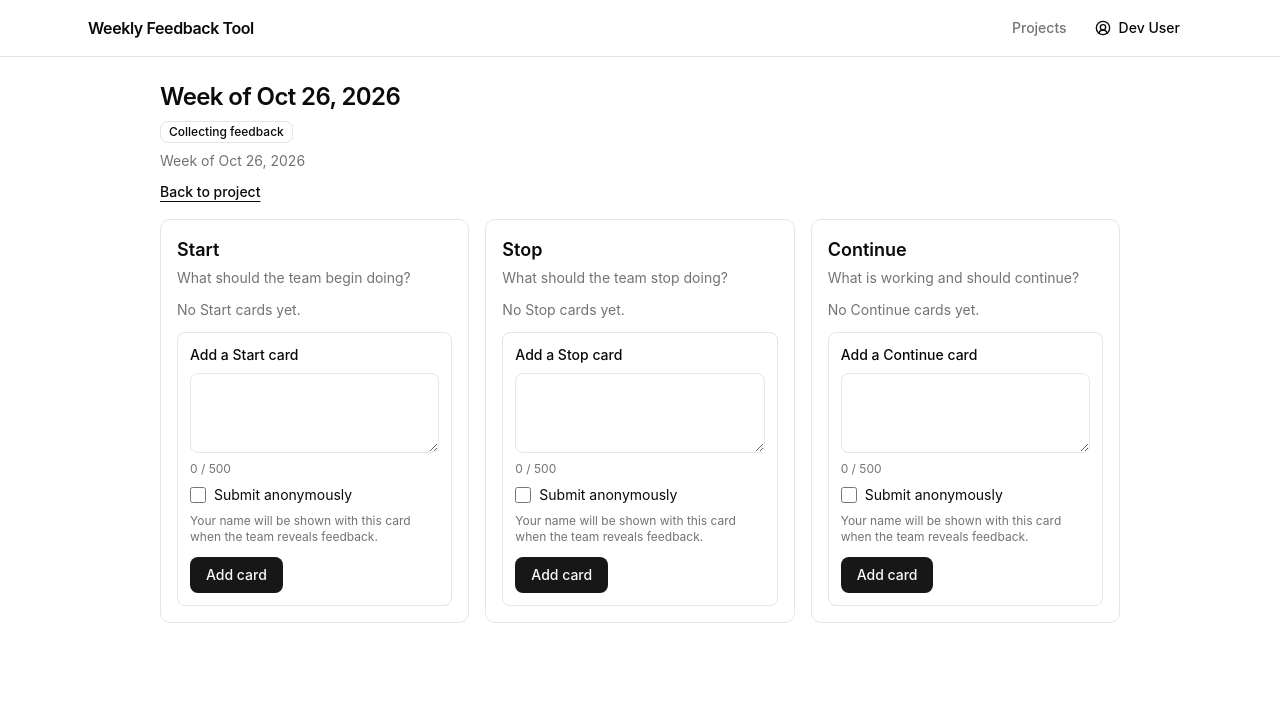
Test: FeedbackPage composer › rejects  with an inline error and no request
Click the button "Add card" below "Add a Start card": (236, 575) [190, 557, 283, 593]
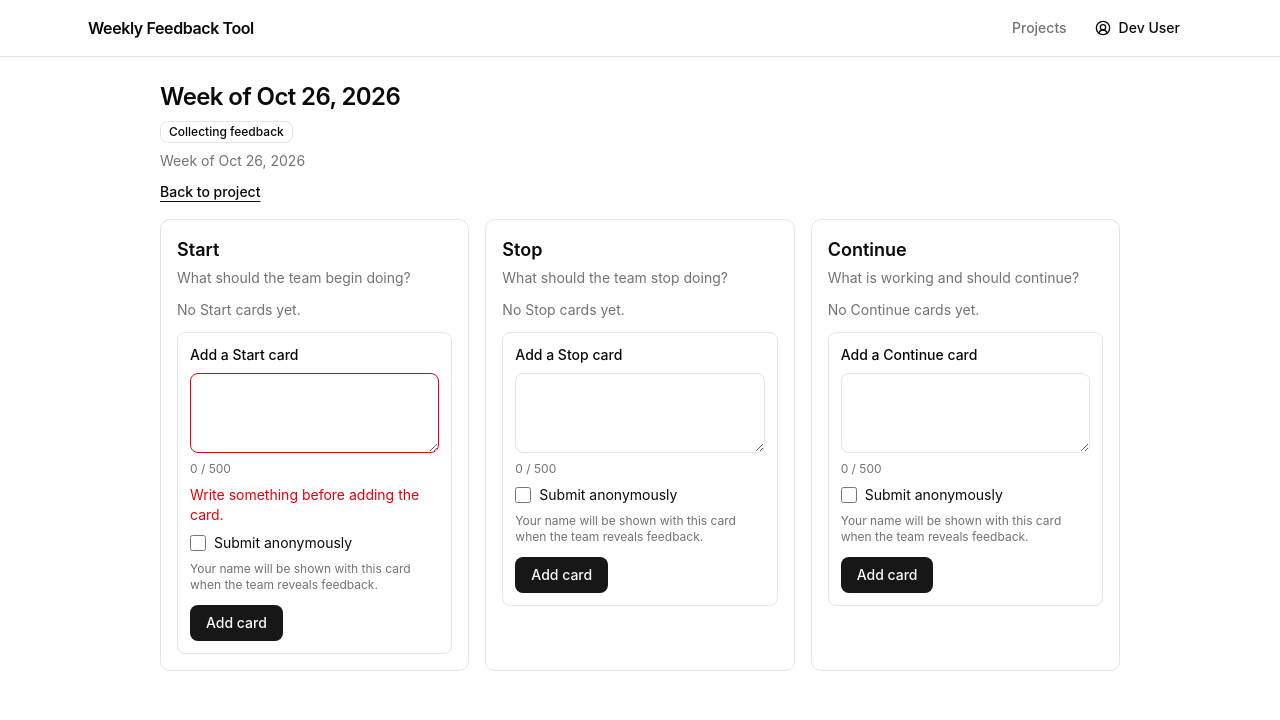
Check: the message reads "Write something before adding the card.", box [190, 486, 419, 523]
